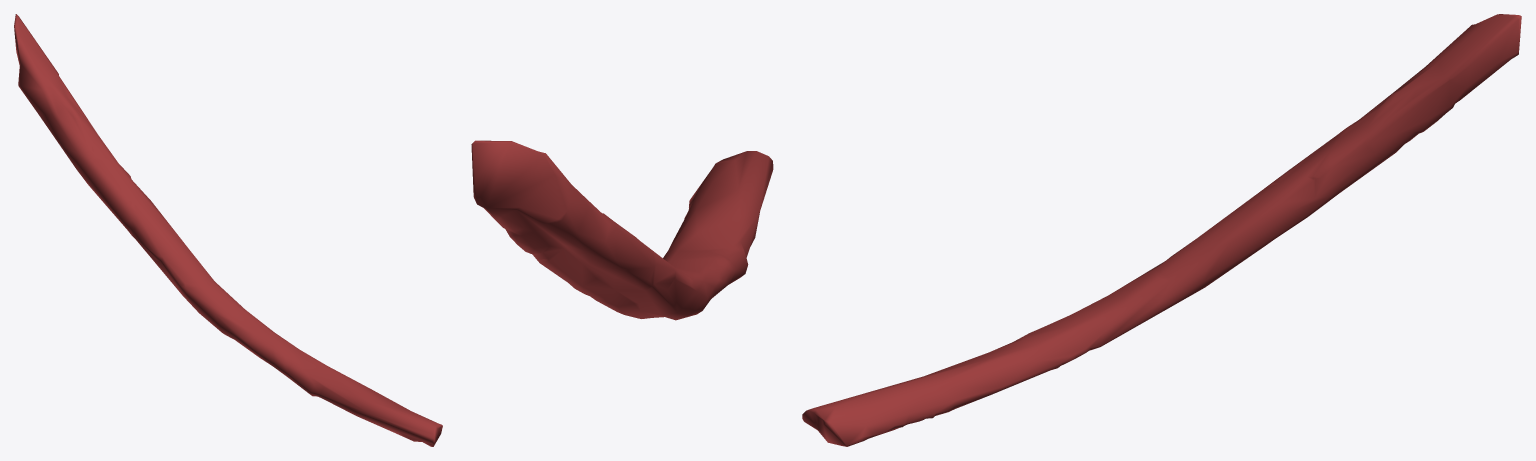
The model's file is tendinous-arch-of-levator-ani-r.glb.
3 renders of one model, left to right at view 1: azimuth 30°, elevation 25°; view 2: azimuth 150°, elevation 25°; view 3: azimuth 270°, elevation 25°, orthographic. The views are drawn at different scales.
Parts seen in each view (by area): view 1: Tendinous arch of levator ani.r; view 2: Tendinous arch of levator ani.r; view 3: Tendinous arch of levator ani.r.
Boxes of the visible parts, x1,y1,x2,y2 form: Tendinous arch of levator ani.r: [14, 14, 442, 446]; Tendinous arch of levator ani.r: [471, 140, 773, 320]; Tendinous arch of levator ani.r: [802, 14, 1521, 446].
Bounding box in the file's own units: 0.0238 × 0.0341 × 0.0653.
